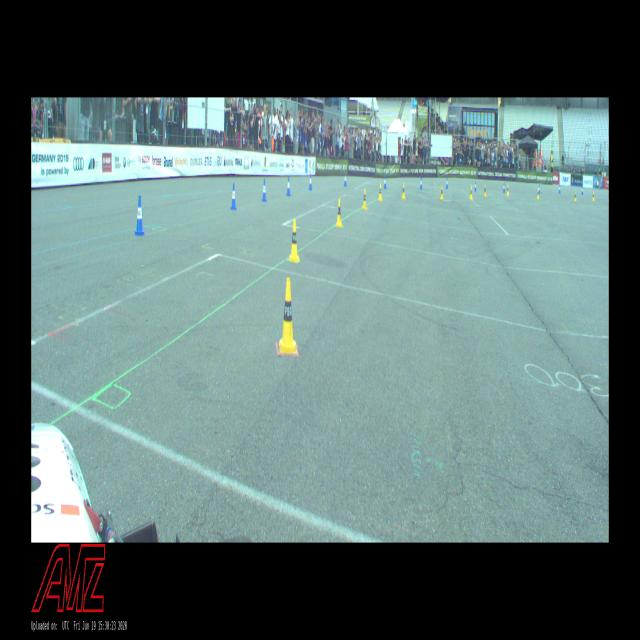blue_cone: (135, 196, 144, 235), (231, 184, 237, 209), (286, 177, 291, 196), (262, 179, 266, 201), (308, 174, 312, 189), (344, 172, 346, 185), (384, 176, 386, 189), (420, 178, 422, 190), (446, 178, 448, 189), (503, 183, 505, 192), (474, 182, 476, 191), (538, 184, 540, 193), (558, 185, 560, 193), (582, 187, 584, 195)
yellow_cone: (279, 278, 297, 354), (289, 219, 299, 261), (336, 198, 342, 226), (362, 188, 367, 208), (378, 184, 382, 200), (440, 186, 443, 200), (402, 184, 405, 198), (470, 186, 472, 199), (506, 184, 508, 196), (484, 185, 486, 196), (537, 189, 539, 199), (574, 192, 576, 201), (592, 192, 594, 200)
